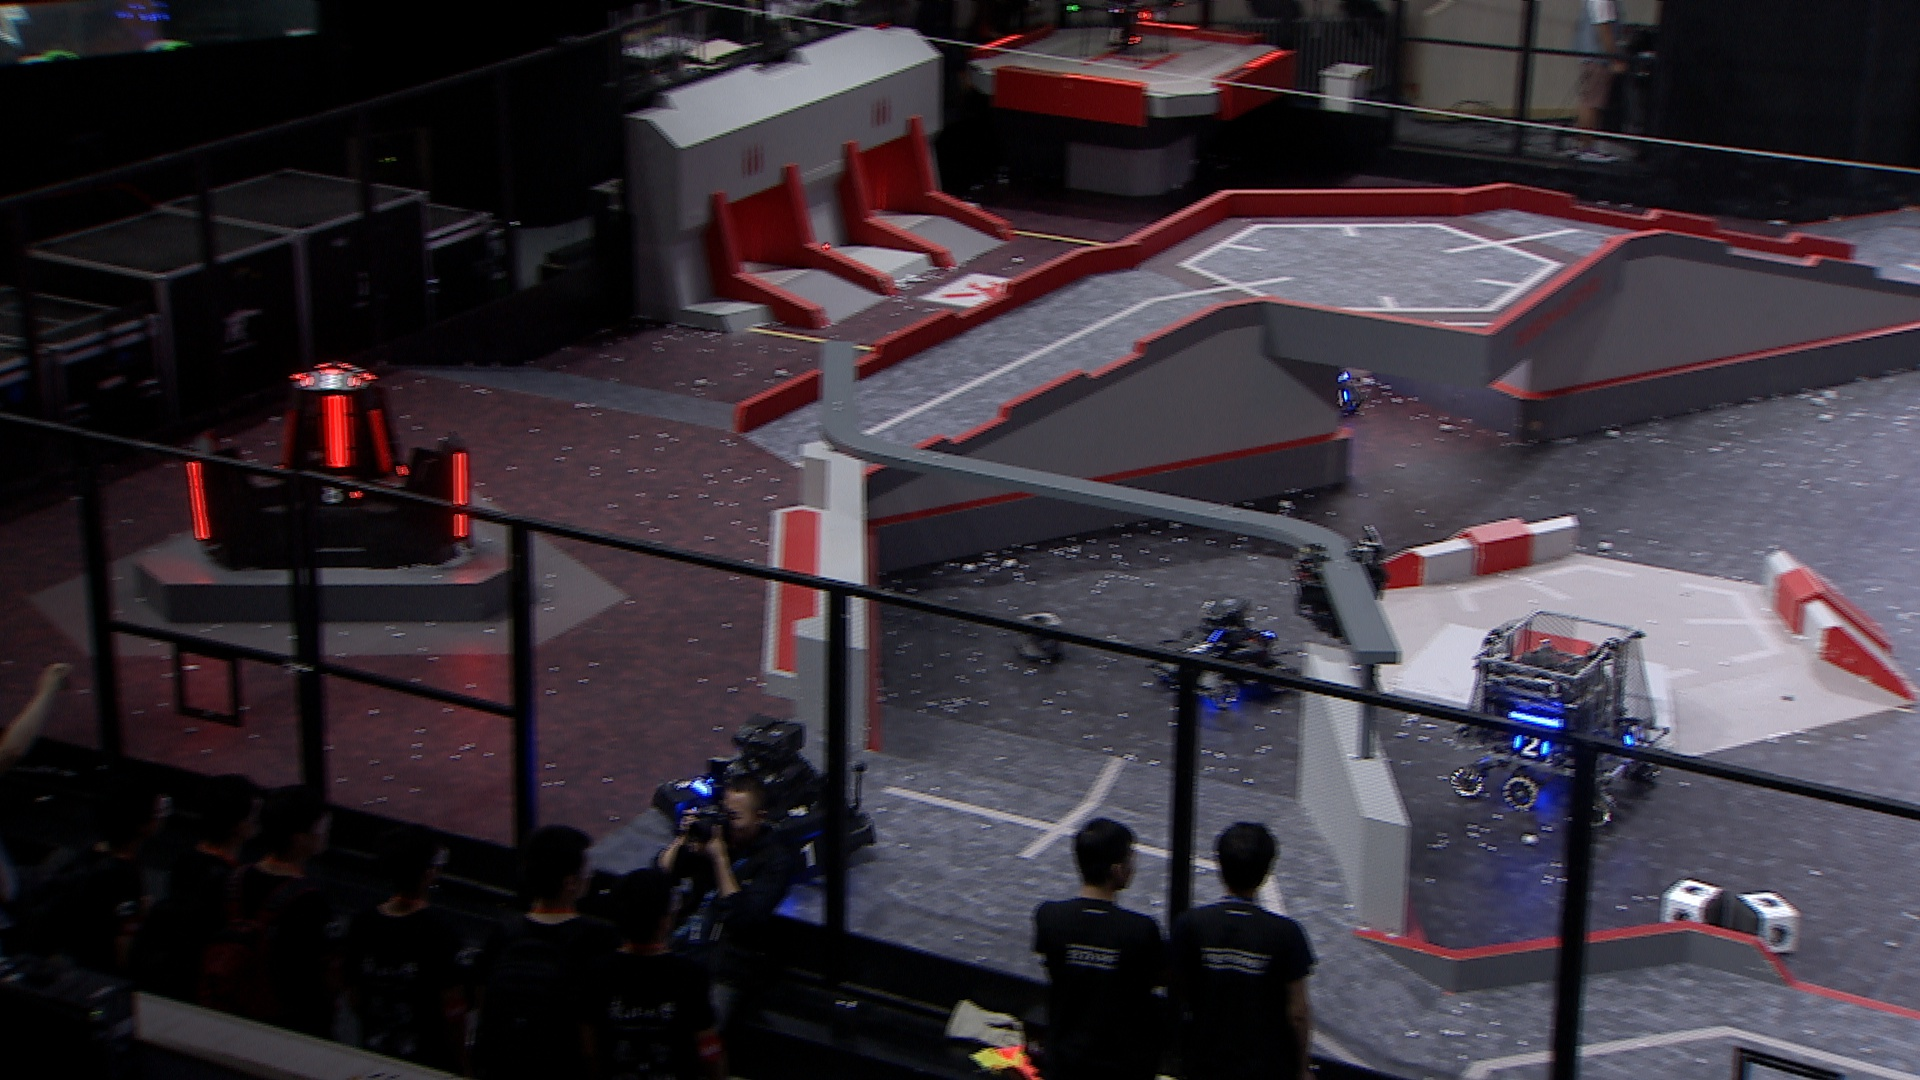armor: (314, 392, 352, 471), (182, 458, 210, 545), (305, 472, 368, 509), (363, 410, 396, 472), (451, 451, 473, 541), (785, 837, 833, 876), (299, 368, 367, 392), (276, 404, 301, 467), (1513, 728, 1553, 760), (1178, 632, 1221, 661), (1621, 719, 1647, 749), (1332, 385, 1353, 409)
base: (179, 357, 477, 568)
car: (1451, 607, 1677, 829), (651, 712, 878, 893), (1149, 593, 1305, 711), (1255, 332, 1360, 419)
watcher: (1288, 524, 1391, 645)
